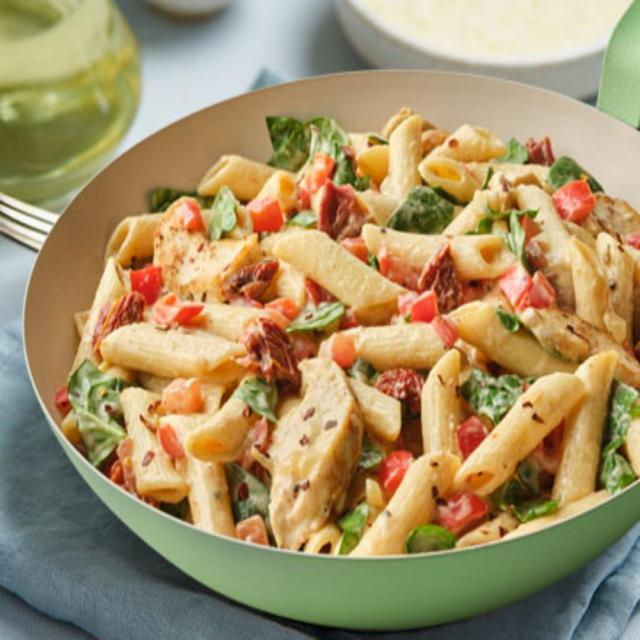pasta: (72, 99, 637, 573)
